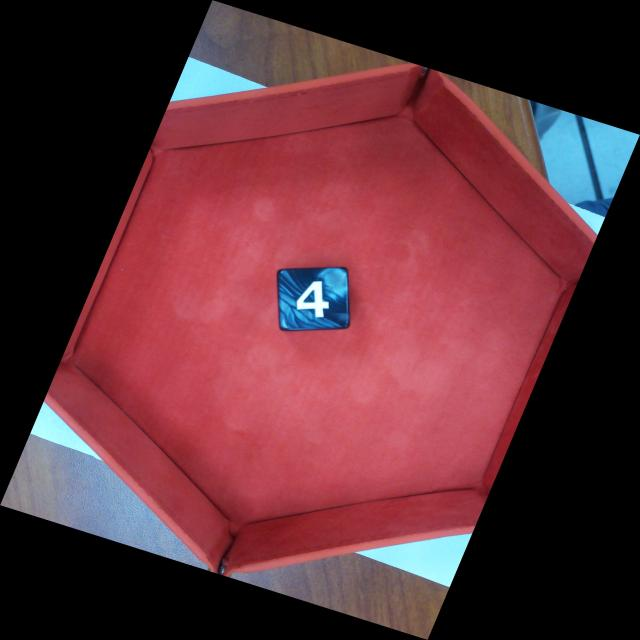dice: (275, 266, 350, 334)
